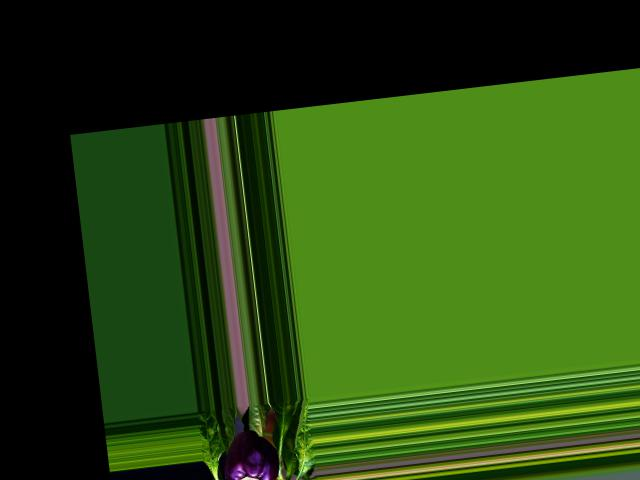bell_pepper: (219, 424, 284, 480)
